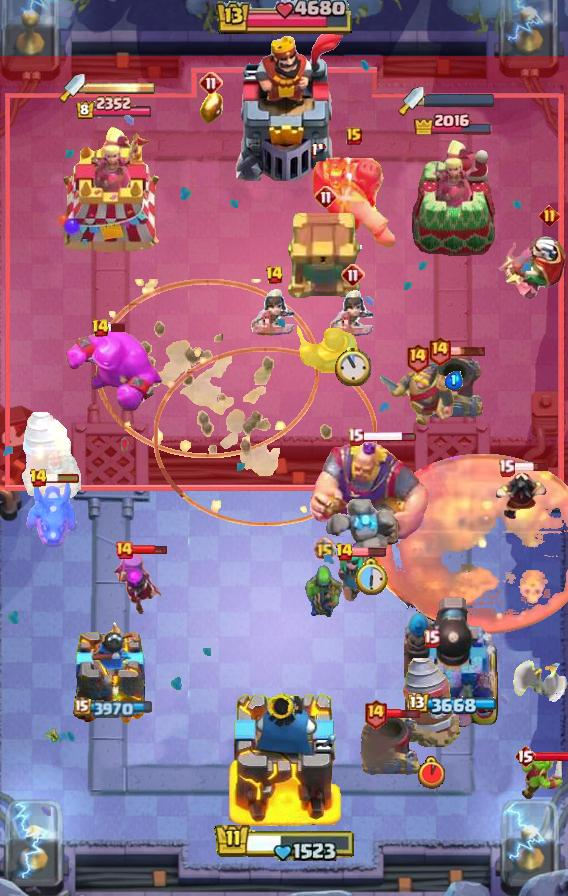bar: (55, 126, 173, 256), (409, 138, 497, 256)
bomb: (287, 212, 365, 300)
bomber: (198, 89, 224, 125)
clock: (214, 819, 354, 861), (214, 0, 354, 36)
clone: (65, 328, 163, 414)
electro-spirit: (445, 371, 463, 389)
elixir: (335, 346, 371, 386), (352, 556, 387, 595), (418, 756, 445, 788)
emote: (363, 429, 418, 442), (387, 707, 422, 721), (534, 749, 568, 763), (132, 543, 168, 556), (450, 345, 487, 357), (514, 461, 551, 473), (45, 472, 81, 484), (351, 546, 387, 558), (107, 322, 127, 333)
firecracker: (379, 366, 455, 425), (297, 325, 359, 377)
giant-snowball: (304, 563, 344, 621)
graveyard: (25, 475, 81, 549)
guard: (96, 278, 320, 457), (154, 346, 378, 525)
king-tower: (223, 31, 345, 181), (226, 688, 342, 826)
king-tower-bar: (424, 93, 496, 107), (85, 81, 155, 95)
lava-hound: (310, 139, 398, 249)
lightning: (309, 441, 430, 547)
lumberjack: (494, 470, 548, 522)
magic-archer: (398, 653, 464, 751), (21, 411, 81, 503)
musketeer: (423, 354, 485, 422), (360, 711, 422, 779)
phoenix-egg: (372, 454, 568, 635)
queen-tower: (72, 619, 156, 731)
rascal-girl: (112, 550, 164, 614)
royal-giant: (512, 647, 568, 705)
selected: (409, 692, 500, 715), (414, 110, 495, 135), (75, 96, 153, 121), (73, 698, 154, 719)
skeleton-dragon: (248, 288, 300, 346), (327, 289, 379, 347)
skeleton-king: (496, 231, 568, 303)
text: (405, 343, 430, 374), (428, 335, 453, 365), (364, 699, 389, 729), (199, 71, 223, 95), (314, 185, 338, 209), (341, 263, 365, 287), (313, 536, 336, 560), (514, 744, 536, 768), (540, 205, 561, 226), (114, 540, 134, 560), (264, 265, 283, 285), (90, 318, 109, 338), (28, 468, 47, 488), (335, 542, 354, 562), (497, 458, 515, 477), (423, 629, 440, 648), (348, 427, 365, 445), (346, 127, 362, 145)
tower-bar: (404, 593, 502, 731)
valkyrie-evolution: (322, 499, 398, 577)
witch: (336, 548, 382, 602)
zap: (519, 752, 565, 802)
